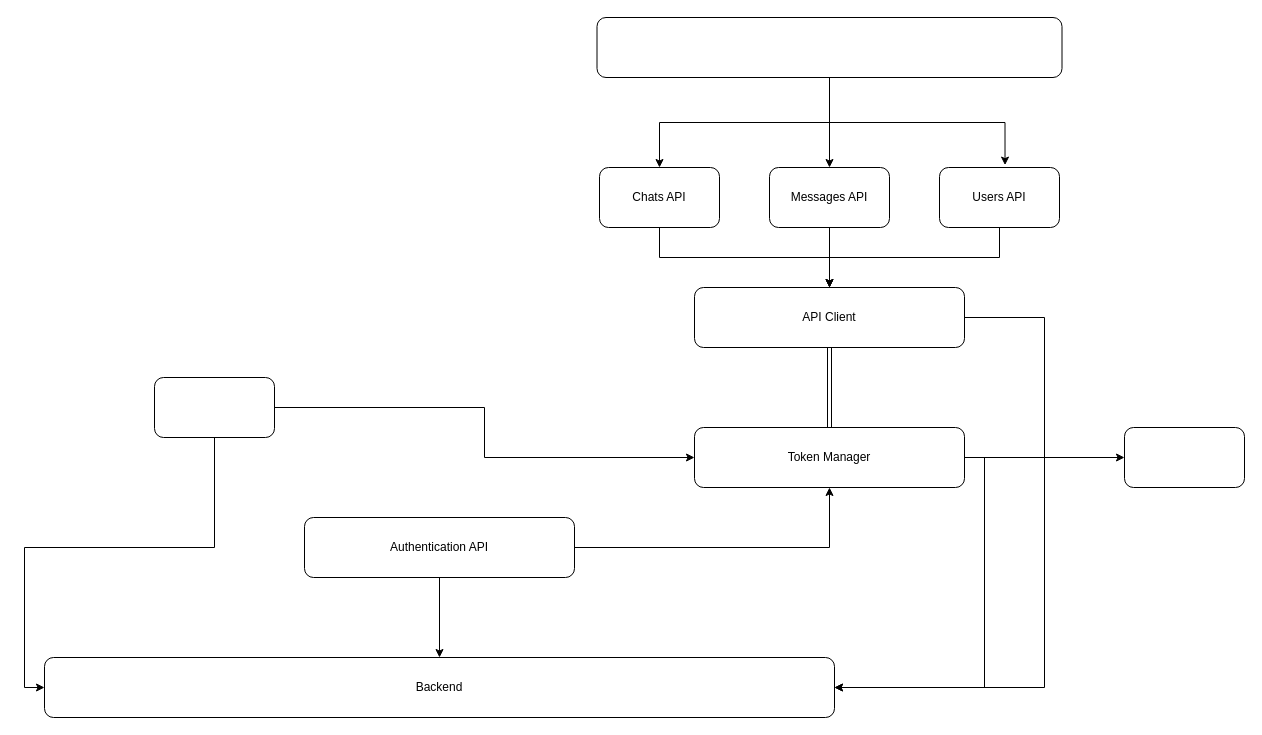
Some shapes in this 1262 by 735 pixel diagram are drawn without their labels. Each missing label, with the box of its shape:
Messaging Hub: (154, 376, 274, 438)
Saved Tokens: (1124, 426, 1244, 488)
ViewModel: (596, 16, 1062, 78)
